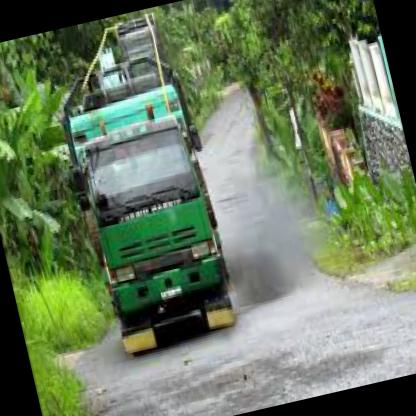truck: (72, 107, 238, 355)
